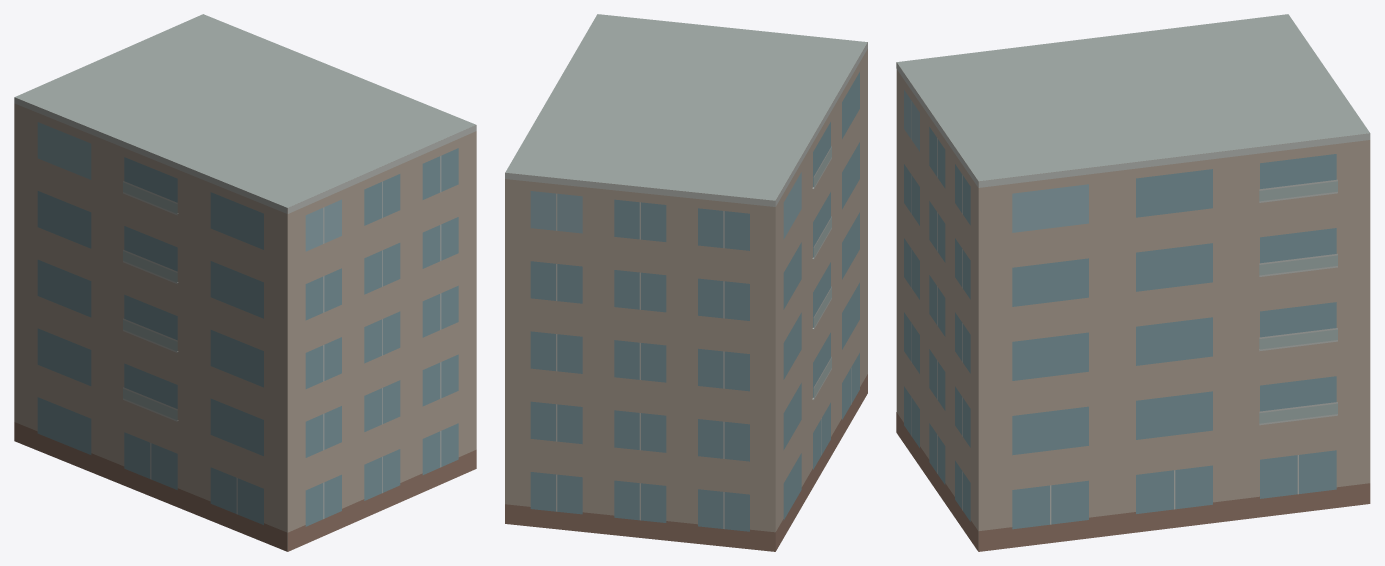
Rendered from survey-upis-32562350.glb.
3 views of the same model, side by side, from view 1: azimuth 30°, elevation 25°; view 2: azimuth 150°, elevation 25°; view 3: azimuth 270°, elevation 25° (orthographic). The views are drawn at different scales.
Parts seen in each view (by area): view 1: survey-upis-32562350.tmp; view 2: survey-upis-32562350.tmp; view 3: survey-upis-32562350.tmp.
Boxes of the visible parts, <box> form: survey-upis-32562350.tmp: <box>14,14,476,551</box>; survey-upis-32562350.tmp: <box>505,14,867,551</box>; survey-upis-32562350.tmp: <box>896,14,1370,551</box>.
Size of the model in its own units: 13.18 by 13.6 by 15.77.
